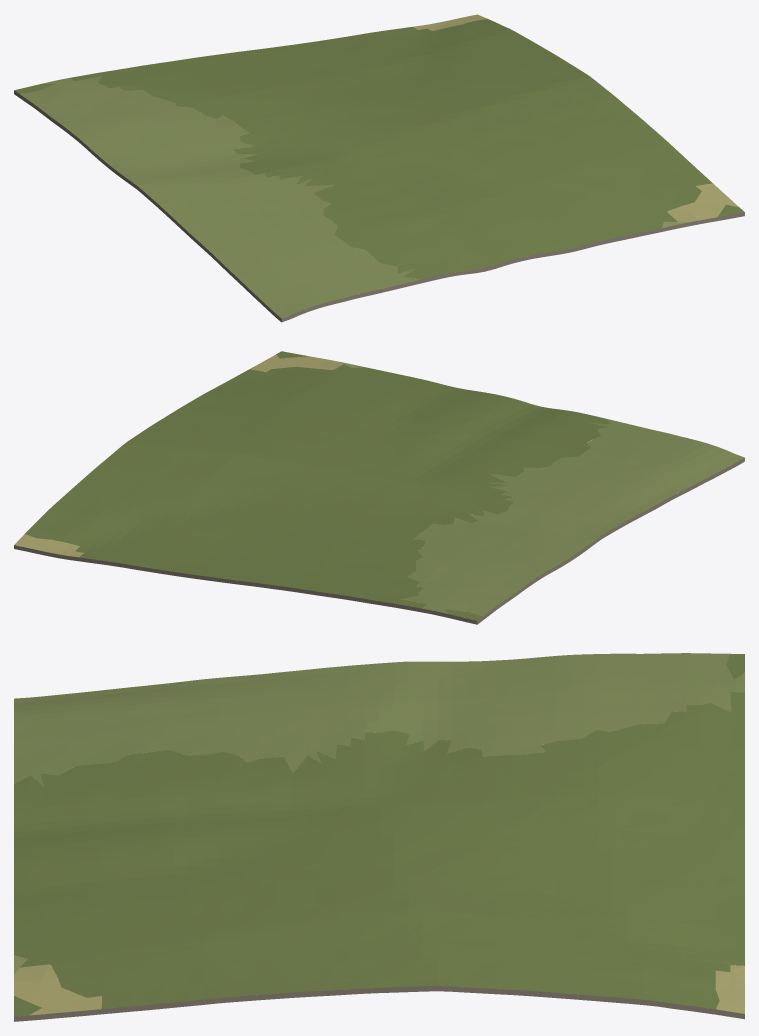
Rendered from parca_+12_-5-uzak.glb.
3 renders of one model, top to bottom at view 1: azimuth 30°, elevation 25°; view 2: azimuth 150°, elevation 25°; view 3: azimuth 270°, elevation 25°, orthographic. The views are drawn at different scales.
Parts seen in each view (by area): view 1: parca_+12_-5_arazi_uzak; view 2: parca_+12_-5_arazi_uzak; view 3: parca_+12_-5_arazi_uzak.
Part boxes in pixels (left/top/right/bottom): parca_+12_-5_arazi_uzak: left=14, top=14, right=744, bottom=322; parca_+12_-5_arazi_uzak: left=14, top=351, right=744, bottom=624; parca_+12_-5_arazi_uzak: left=14, top=653, right=744, bottom=1021.
Bounding box in the file's own units: 1000 × 90.42 × 1000.
